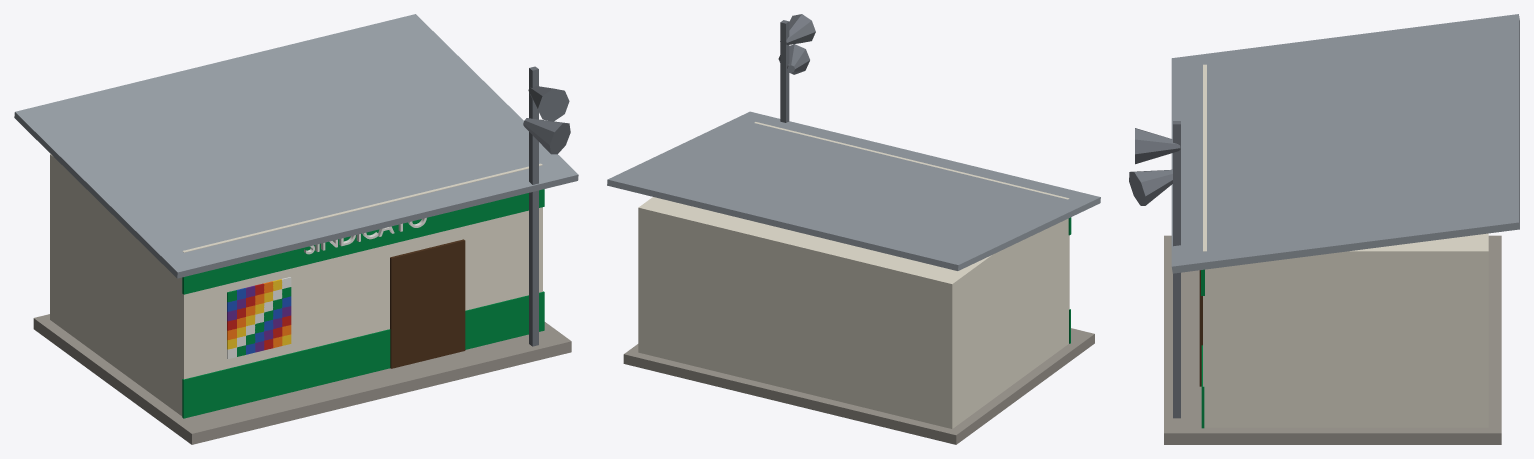
File: Sede sindical.fbx
3 renders of one model, left to right at view 1: azimuth 30°, elevation 25°; view 2: azimuth 150°, elevation 25°; view 3: azimuth 270°, elevation 25°, orthographic. The views are drawn at different scales.
Parts seen in each view (by area): view 1: Sede sindical; view 2: Sede sindical; view 3: Sede sindical.
Part boxes in pixels (x1=…): Sede sindical: x1=14, y1=14, x2=578, y2=444; Sede sindical: x1=607, y1=14, x2=1100, y2=444; Sede sindical: x1=1129, y1=14, x2=1519, y2=444.
Bounding box in the file's own units: 3.8 × 2.6 × 3.01.
